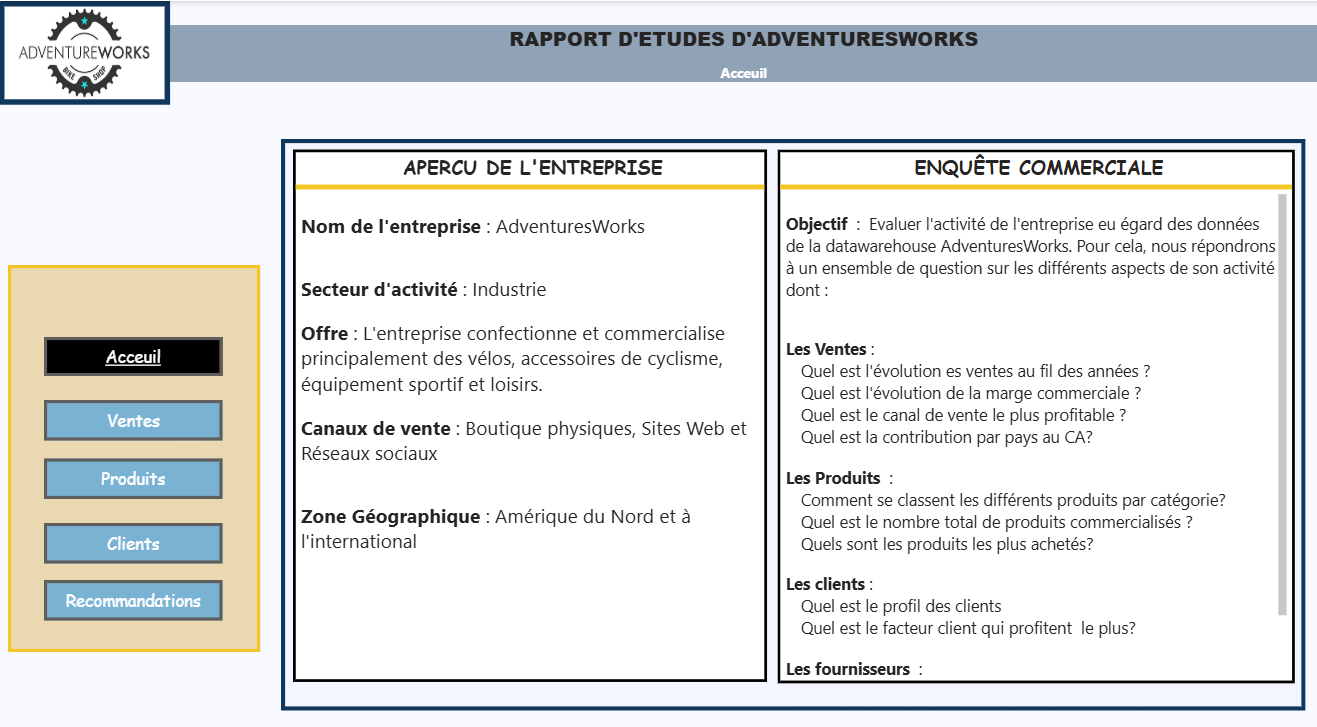

What the dashboard file says about the page in this screenshot:
{"tool":"powerbi","page":{"name":"ACCUEIL","canvas":[1280,720],"ordinal":0},"visuals":[{"type":"image","box":[0,0,165.9,100.4],"z":0},{"type":"shape","box":[273.6,133.9,994.1,554.6],"z":0,"group":"g1"},{"type":"textbox","title":"RAPPORT D''ETUDES D''ADVENTURESWORKS ","box":[165.9,23.3,1113.5,55.3],"z":1000},{"type":"shape","box":[8.1,255.8,244.5,375.5],"z":2000,"group":"g2"},{"type":"group","id":"g1","title":"Groupe 1","box":[273.6,133.9,994.1,554.6],"z":3000},{"type":"textbox","title":"APERCU DE L''ENTREPRISE ","box":[285.2,143.8,460,516.5],"z":4000,"group":"g1"},{"type":"actionButton","box":[43,386.8,173.2,39.3],"z":4000,"group":"g2"},{"type":"actionButton","box":[43,325.7,173.2,37.8],"z":5000,"group":"g2"},{"type":"textbox","title":"ENQUÊTE COMMERCIALE","box":[755.4,143.8,502.2,517.9],"z":6000,"group":"g1"},{"type":"actionButton","box":[43,443.6,173.2,39.3],"z":6000,"group":"g2"},{"type":"actionButton","box":[43,506.2,173.2,39.3],"z":7000,"group":"g2"},{"type":"actionButton","box":[43,561.5,173.2,39.3],"z":8000,"group":"g2"},{"type":"group","id":"g2","title":"Groupe 2","box":[8.1,255.8,246.1,374],"z":8001}]}

Visuals, with their boxes in screenshot pixels (x1, y1, x2, y2), scaled from the page's 1280x720 canvas onto the 1317x727 screenshot:
image: (x1=0, y1=0, x2=171, y2=101)
shape: (x1=282, y1=135, x2=1304, y2=695)
"RAPPORT D''ETUDES D''ADVENTURESWORKS " textbox: (x1=171, y1=24, x2=1316, y2=79)
shape: (x1=8, y1=258, x2=260, y2=637)
"Groupe 1" group: (x1=282, y1=135, x2=1304, y2=695)
"APERCU DE L''ENTREPRISE " textbox: (x1=293, y1=145, x2=767, y2=667)
actionButton: (x1=44, y1=391, x2=222, y2=430)
actionButton: (x1=44, y1=329, x2=222, y2=367)
"ENQUÊTE COMMERCIALE" textbox: (x1=777, y1=145, x2=1294, y2=668)
actionButton: (x1=44, y1=448, x2=222, y2=488)
actionButton: (x1=44, y1=511, x2=222, y2=551)
actionButton: (x1=44, y1=567, x2=222, y2=607)
"Groupe 2" group: (x1=8, y1=258, x2=262, y2=636)
